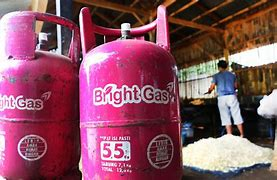bright_gas: (77, 4, 180, 180), (1, 11, 80, 180)
